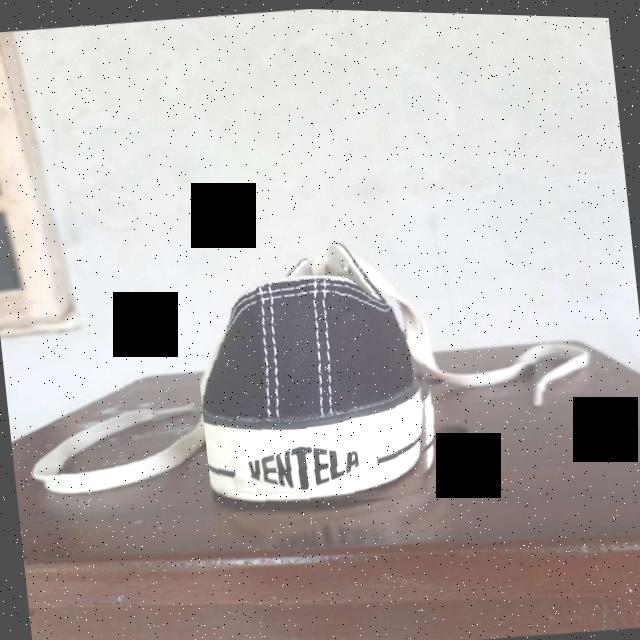shoe: (186, 226, 444, 518)
